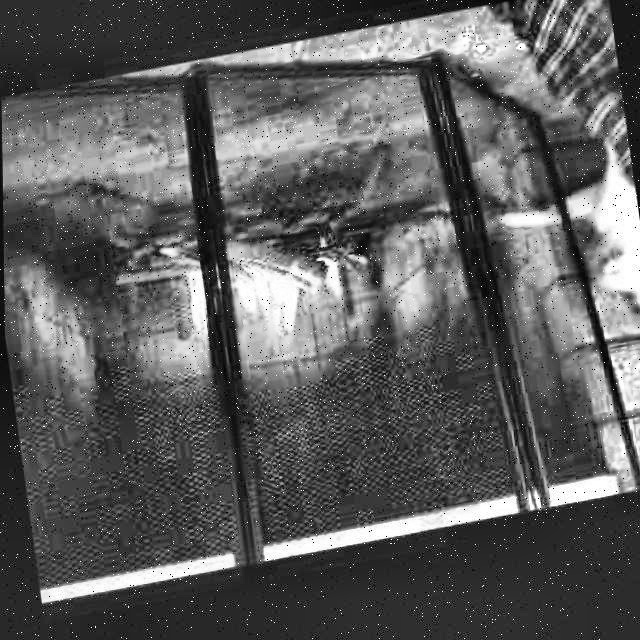Fire: (177, 249, 353, 363)
